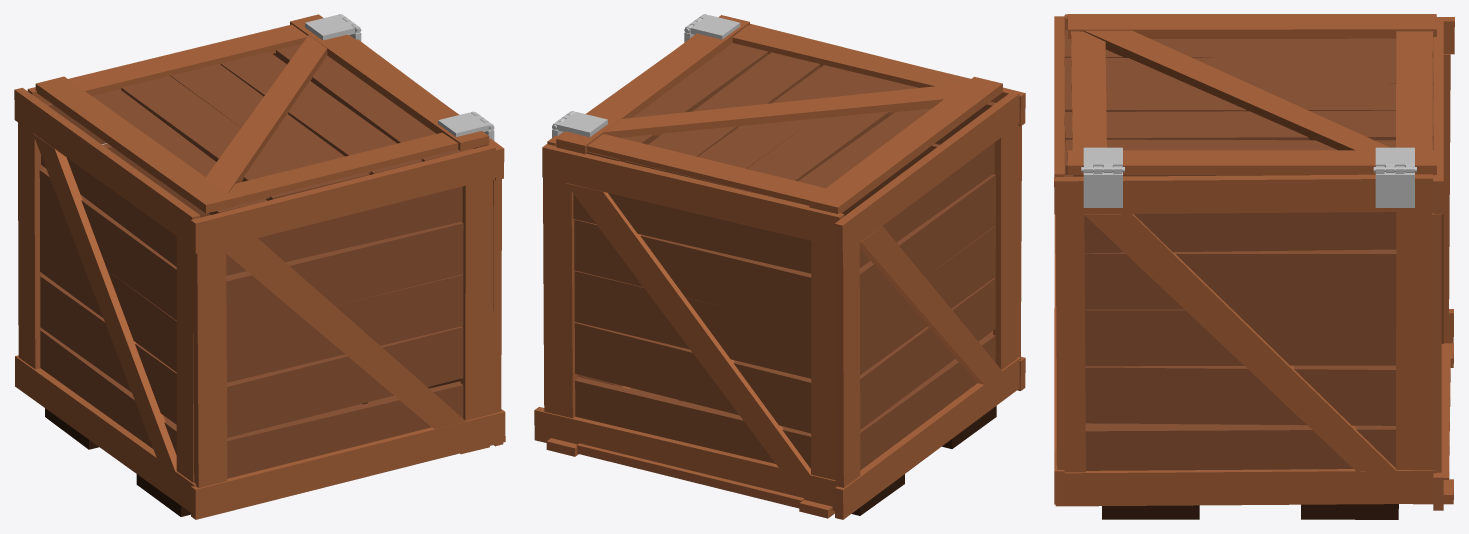
Rendered from crate.fbx.
3 views of the same model, side by side, from view 1: azimuth 30°, elevation 25°; view 2: azimuth 150°, elevation 25°; view 3: azimuth 270°, elevation 25° (orthographic). The views are drawn at different scales.
Parts seen in each view (by area): view 1: Plank.044, Plank.042, Plank.033, Plank.045, Plank.032, Plank.035, Plank.041, Plank.034, Plank.031, Plank.040, Plank.038, Plank.043 (+23 smaller); view 2: Plank.047, Plank.049, Plank.023, Plank.050, Plank.025, Plank.022, Plank.046, Plank.024, Plank.038, Plank.005, Plank.048, Plank.037 (+24 smaller); view 3: Plank.055, Plank.057, Plank.058, Plank.027, Plank.030, Plank.028, Plank.054, Plank.056, Plank.026, Plank.003, Plank.029, Plank.005 (+24 smaller).
Part boxes in pixels (x1,y1,x2,y2): Plank.044: [226, 221, 463, 332]; Plank.042: [227, 326, 463, 437]; Plank.033: [191, 144, 495, 253]; Plank.045: [226, 274, 463, 382]; Plank.032: [191, 409, 505, 519]; Plank.035: [220, 238, 465, 429]; Plank.041: [227, 381, 463, 478]; Plank.034: [192, 247, 227, 487]; Plank.031: [460, 178, 494, 420]; Plank.040: [33, 133, 176, 471]; Plank.038: [14, 87, 200, 246]; Plank.043: [226, 186, 462, 275]; Plank.047: [574, 322, 811, 433]; Plank.049: [574, 219, 811, 327]; Plank.023: [542, 144, 844, 246]; Plank.050: [574, 270, 811, 378]; Plank.025: [565, 183, 811, 475]; Plank.022: [534, 407, 835, 510]; Plank.046: [575, 377, 811, 468]; Plank.024: [543, 177, 577, 418]; Plank.038: [834, 92, 1019, 255]; Plank.005: [603, 83, 964, 137]; Plank.048: [573, 193, 811, 273]; Plank.037: [835, 357, 1020, 519]; Plank.055: [1085, 365, 1395, 425]; Plank.057: [1084, 249, 1396, 309]; Plank.058: [1085, 309, 1396, 366]; Plank.027: [1055, 469, 1436, 506]; Plank.030: [1084, 214, 1396, 471]; Plank.028: [1054, 174, 1433, 214]; Plank.054: [1085, 425, 1395, 470]; Plank.056: [1084, 212, 1396, 253]; Plank.026: [1396, 211, 1432, 469]; Plank.003: [1067, 14, 1436, 38]; Plank.029: [1055, 214, 1085, 472]; Plank.005: [1084, 30, 1389, 150].
Size of the model in its own units: 173 by 170 by 173.
